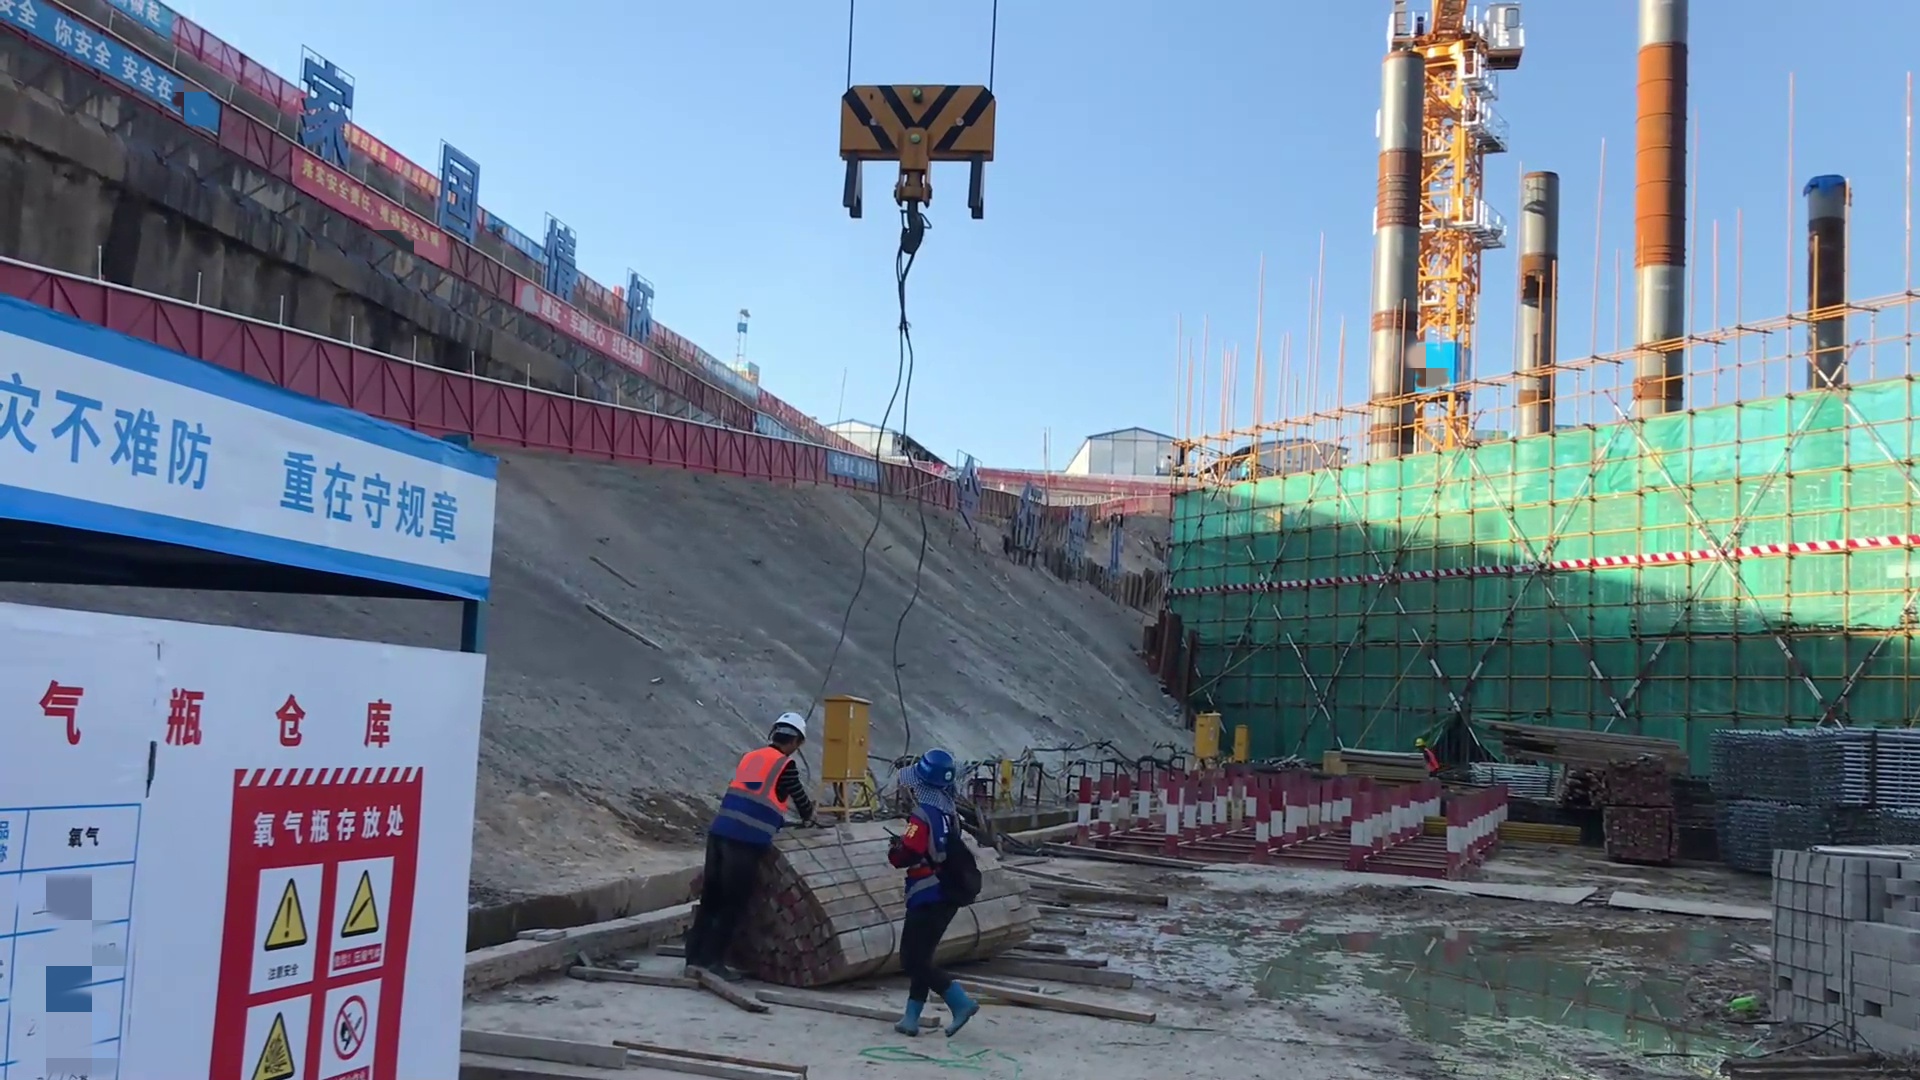brick: (1743, 838, 1920, 1049)
ebox: (807, 685, 867, 800), (1187, 699, 1219, 762), (1229, 719, 1249, 764)
fence: (485, 382, 793, 472)
helmet: (903, 750, 953, 792), (769, 711, 804, 746)
hook: (832, 69, 993, 229)
person: (689, 692, 816, 970), (884, 750, 990, 1034), (1412, 738, 1443, 779)
scaffold: (1704, 707, 1911, 839)
slogan: (1, 376, 485, 542), (217, 746, 428, 1080), (3, 1, 197, 146), (266, 145, 444, 294)
vest: (729, 744, 797, 820)
wood: (773, 830, 886, 993), (1482, 705, 1670, 794)
